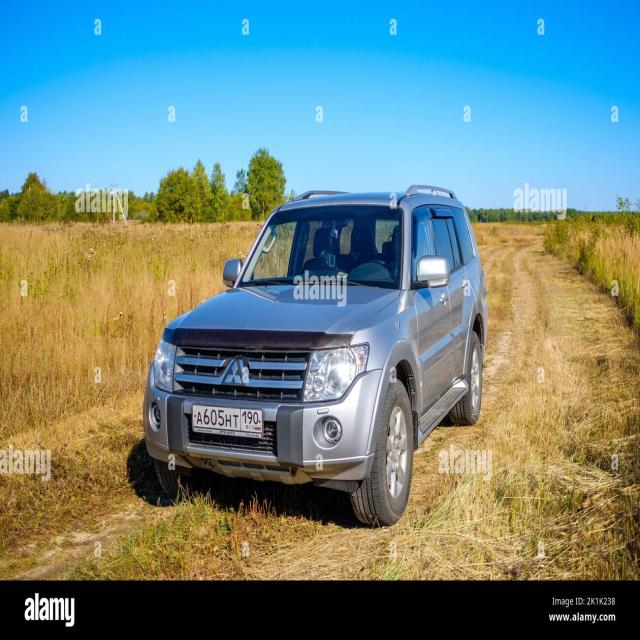light_vehicle: (142, 185, 488, 527)
